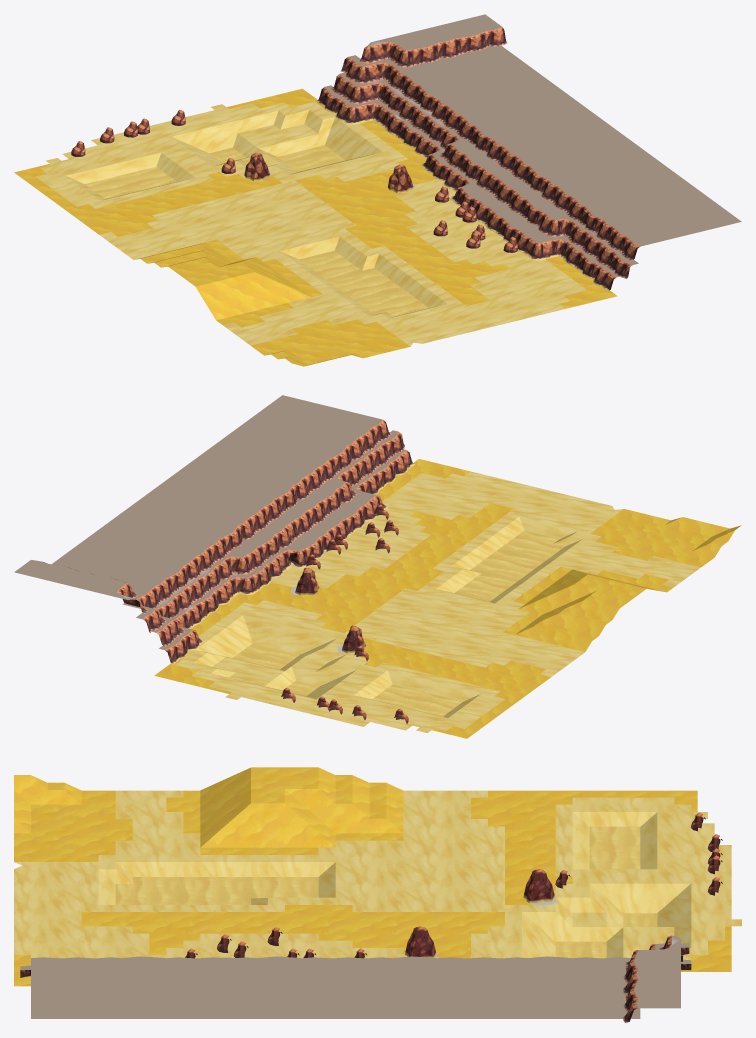
The picture shows the model from 3 angles, top to bottom: view 1: azimuth 30°, elevation 25°; view 2: azimuth 150°, elevation 25°; view 3: azimuth 270°, elevation 25°; orthographic projection. The views are drawn at different scales.
Parts seen in each view (by area): view 1: _0_0_node, _6_0_node, _4_0_node, _1_0_node, _7_0_node-UV1, _5_0_node-UV1, _8_0_node, _3_0_node, _2_0_node; view 2: _0_0_node, _6_0_node, _4_0_node, _7_0_node-UV1, _1_0_node, _5_0_node-UV1, _8_0_node, _3_0_node, _2_0_node; view 3: _6_0_node, _0_0_node, _4_0_node, _7_0_node-UV1, _5_0_node-UV1, _8_0_node, _3_0_node, _2_0_node, _1_0_node.
Part boxes in pixels (<box>): _0_0_node: <box>325,14,741,276</box>; _6_0_node: <box>14,88,617,366</box>; _4_0_node: <box>54,110,568,340</box>; _1_0_node: <box>316,27,640,291</box>; _7_0_node-UV1: <box>35,102,587,346</box>; _5_0_node-UV1: <box>66,131,447,318</box>; _8_0_node: <box>85,145,428,316</box>; _3_0_node: <box>71,110,517,252</box>; _2_0_node: <box>244,152,413,193</box>; _0_0_node: <box>14,395,405,649</box>; _6_0_node: <box>154,459,741,738</box>; _4_0_node: <box>194,477,693,730</box>; _7_0_node-UV1: <box>175,471,700,733</box>; _1_0_node: <box>42,420,414,664</box>; _5_0_node-UV1: <box>214,516,582,718</box>; _8_0_node: <box>233,530,563,716</box>; _3_0_node: <box>281,504,408,723</box>; _2_0_node: <box>295,568,366,653</box>; _6_0_node: <box>14,767,731,986</box>; _0_0_node: <box>20,935,691,1018</box>; _4_0_node: <box>14,790,731,958</box>; _7_0_node-UV1: <box>14,790,741,960</box>; _5_0_node-UV1: <box>98,812,674,957</box>; _8_0_node: <box>115,826,657,958</box>; _3_0_node: <box>185,812,722,958</box>; _2_0_node: <box>405,869,555,957</box>; _1_0_node: <box>20,935,691,1023</box>.
Bounding box in the file's own units: 702 × 774 × 90.
